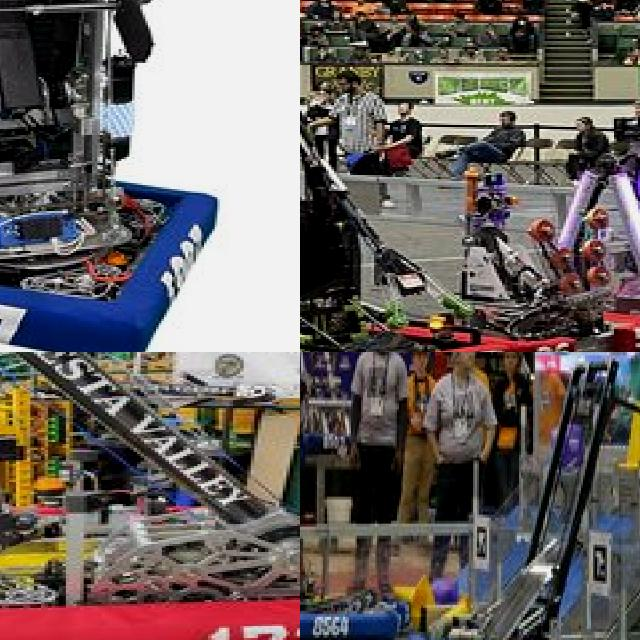FRC-Robots: (0, 0, 258, 352), (0, 352, 300, 640), (421, 352, 640, 640), (300, 121, 507, 352), (489, 151, 631, 352)
